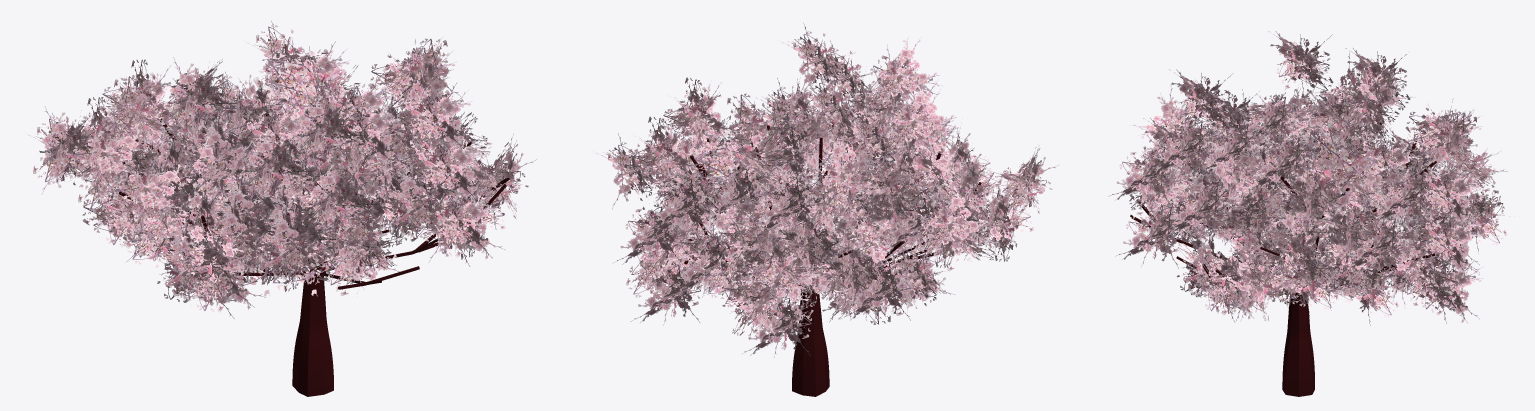
File: cherry.fbx
3 views of the same model, side by side, from view 1: azimuth 30°, elevation 25°; view 2: azimuth 150°, elevation 25°; view 3: azimuth 270°, elevation 25° (orthographic). The views are drawn at different scales.
Visible parts, largest first — view 1: Plane.003, Plane.004, Plane.034, Plane.002; view 2: Plane.004, Plane.003, Plane.034, Plane.002; view 3: Plane.004, Plane.003, Plane.034, Plane.002.
Part boxes in pixels (x1,y1,x2,y2): Plane.003: [82, 36, 505, 318]; Plane.004: [33, 49, 520, 270]; Plane.034: [24, 21, 536, 297]; Plane.002: [118, 110, 513, 396]; Plane.004: [626, 36, 994, 345]; Plane.003: [593, 23, 1058, 315]; Plane.034: [617, 100, 1002, 357]; Plane.002: [651, 125, 981, 396]; Plane.004: [1143, 31, 1514, 325]; Plane.003: [1108, 84, 1474, 308]; Plane.034: [1129, 77, 1483, 323]; Plane.002: [1130, 121, 1436, 396].
Size of the model in its own units: 27111 by 21047 by 24931.
Materials: 7 (6 with a texture image).
